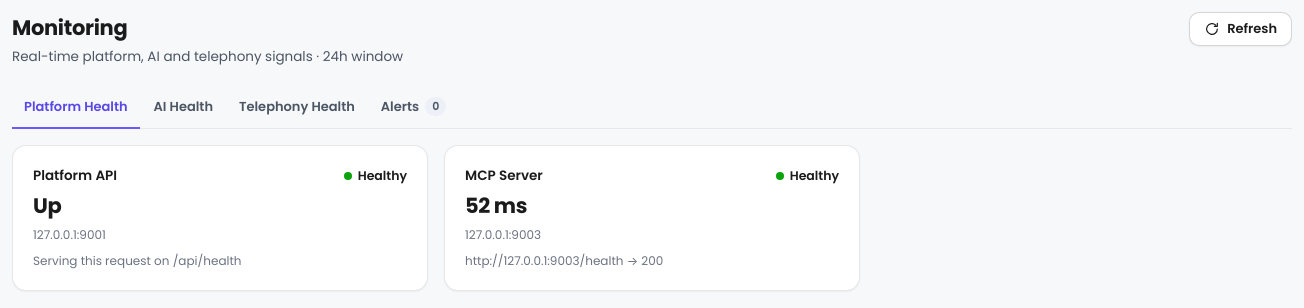
Test: Monitoring — Platform Health › shows reachable services as healthy and dead ones as critical
Expected: the text "Platform API" is shown, left=33, top=166, right=117, bottom=186
Expected: the text "Healthy" is shown, left=344, top=166, right=407, bottom=185
Click the tab "Telephony Health" at [297, 108], box left=227, top=87, right=367, bottom=129
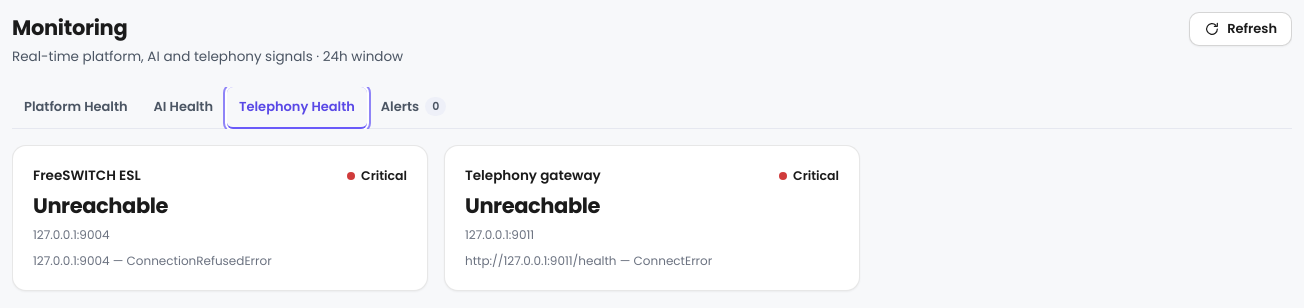
Expected: the text "FreeSWITCH ESL" is shown, left=33, top=166, right=141, bottom=186
Expected: the text "Critical" is shown, left=347, top=166, right=407, bottom=185
Expected: the text "Unreachable" below "FreeSWITCH ESL" is shown, left=33, top=191, right=168, bottom=220
